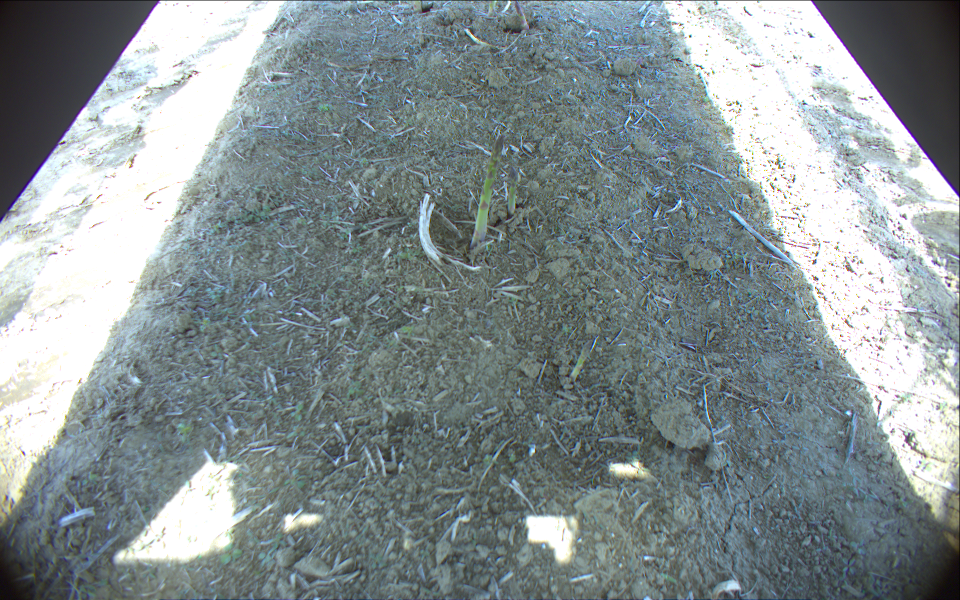aspa: (470, 134, 505, 248), (570, 339, 595, 381), (466, 30, 510, 50), (514, 1, 528, 33), (506, 179, 517, 218), (500, 1, 510, 15), (487, 1, 496, 15)
